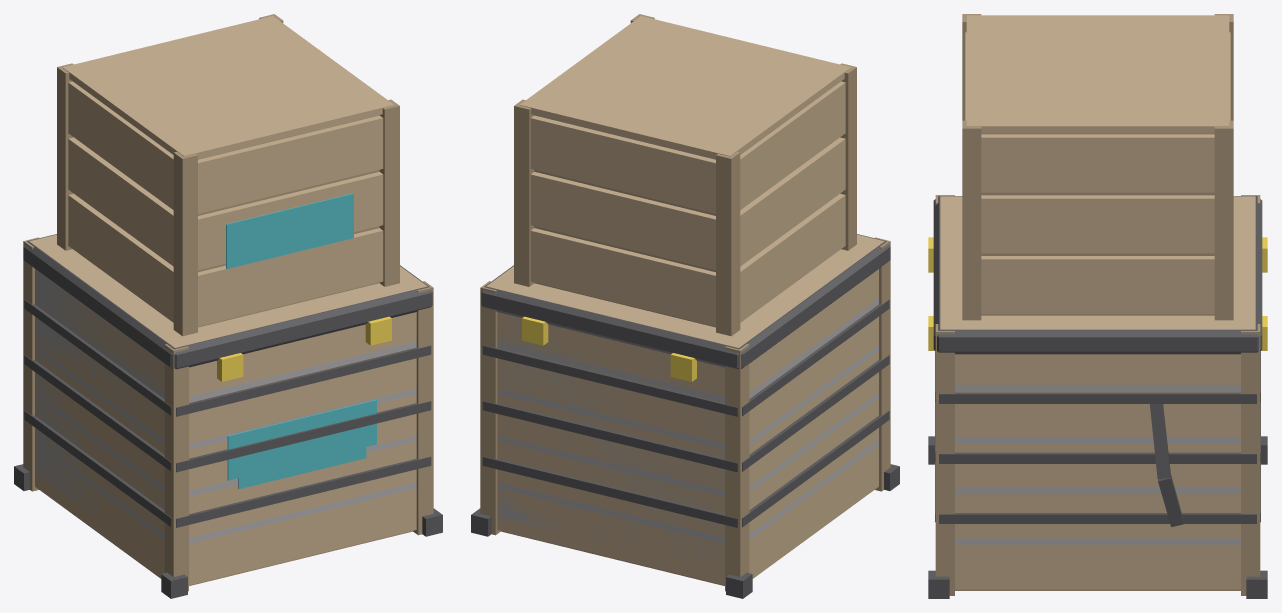
File: parts_stock.glb
3 views of the same model, side by side, from view 1: azimuth 30°, elevation 25°; view 2: azimuth 150°, elevation 25°; view 3: azimuth 270°, elevation 25° (orthographic). The views are drawn at different scales.
Visible parts, largest first — view 1: fs_crate19_mesh, fs_crate15_mesh, fs_case_mesh; view 2: fs_crate19_mesh, fs_case_mesh, fs_crate15_mesh; view 3: fs_crate19_mesh, fs_crate15_mesh, fs_case_mesh.
Part boxes in pixels (x1,y1,x2,y2): fs_crate19_mesh: (23, 14, 433, 591); fs_crate15_mesh: (23, 241, 418, 585); fs_case_mesh: (14, 234, 442, 598); fs_crate19_mesh: (480, 14, 889, 591); fs_case_mesh: (471, 234, 899, 598); fs_crate15_mesh: (480, 241, 890, 585); fs_crate19_mesh: (935, 14, 1260, 595); fs_crate15_mesh: (935, 203, 1260, 589); fs_case_mesh: (928, 196, 1267, 598).
Size of the model in its own units: 1.28 by 1.9 by 1.28.
